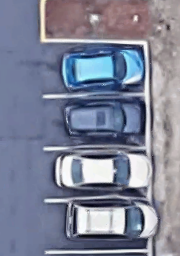Occupied: (42, 95, 146, 148), (42, 43, 146, 95), (43, 200, 147, 252), (43, 148, 146, 200)
